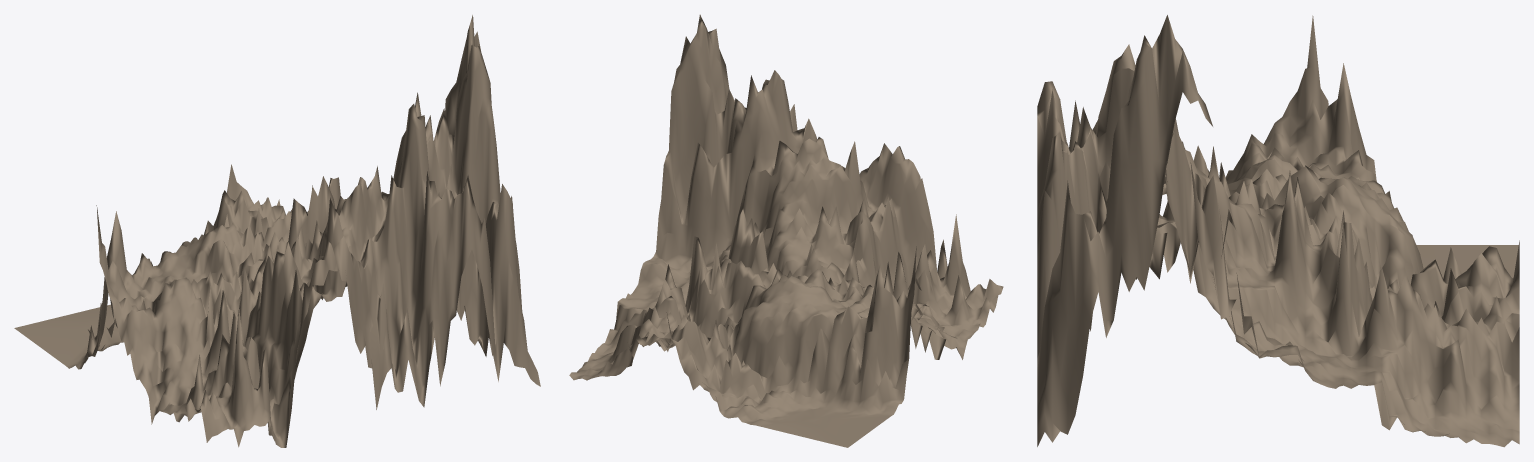
Rendered from chocolate-hills-lo.glb.
3 renders of one model, left to right at view 1: azimuth 30°, elevation 25°; view 2: azimuth 150°, elevation 25°; view 3: azimuth 270°, elevation 25°, orthographic. The views are drawn at different scales.
Size of the model in its own units: 2800 by 2733 by 2800.
